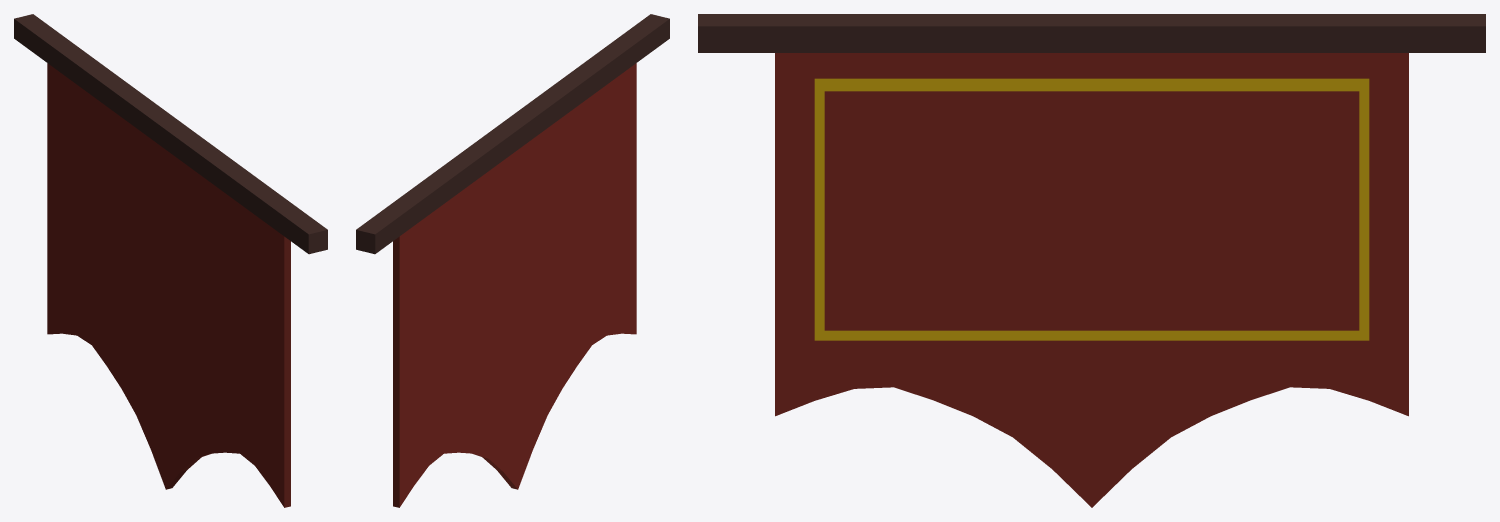
Rendered from Banner5.fbx.
3 views of the same model, side by side, from view 1: azimuth 30°, elevation 25°; view 2: azimuth 150°, elevation 25°; view 3: azimuth 270°, elevation 25° (orthographic). The views are drawn at different scales.
Parts seen in each view (by area): view 1: Cube; view 2: Cube; view 3: Cube.
Part boxes in pixels (x1,y1,x2,y2): Cube: (14,14,327,507); Cube: (356,14,669,507); Cube: (698,14,1485,507).
Size of the model in its own units: 23.45 by 426 by 625.
